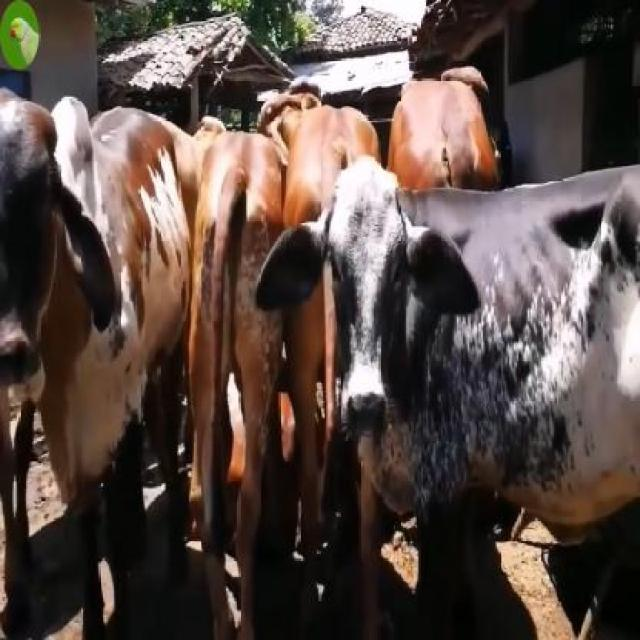Cow: (252, 158, 638, 638)
